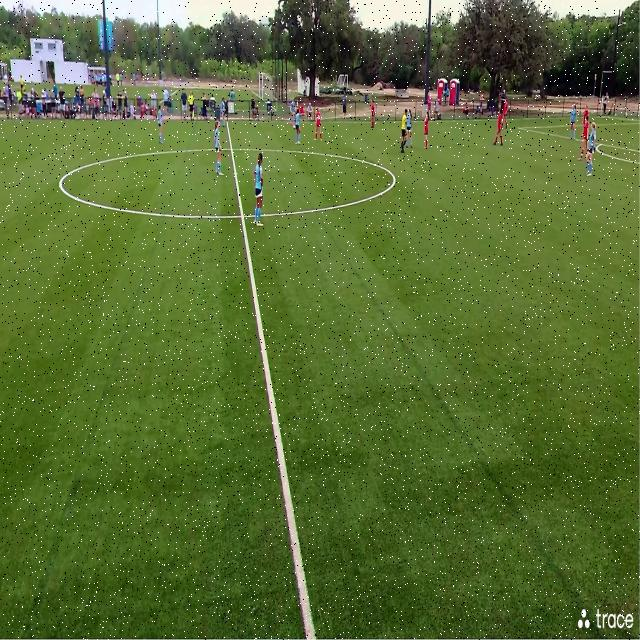Ball: (292, 124, 296, 130)
Referee: (399, 109, 406, 151)
TEAM 1: (578, 110, 590, 163), (582, 102, 592, 154), (492, 110, 504, 147), (500, 90, 509, 132), (314, 106, 324, 143), (423, 108, 430, 148), (369, 98, 376, 128)
TEAM 2: (252, 153, 265, 226), (212, 122, 224, 177), (585, 121, 597, 176), (569, 102, 578, 140), (157, 108, 166, 144), (408, 109, 415, 148), (293, 111, 301, 143), (291, 98, 295, 124)
